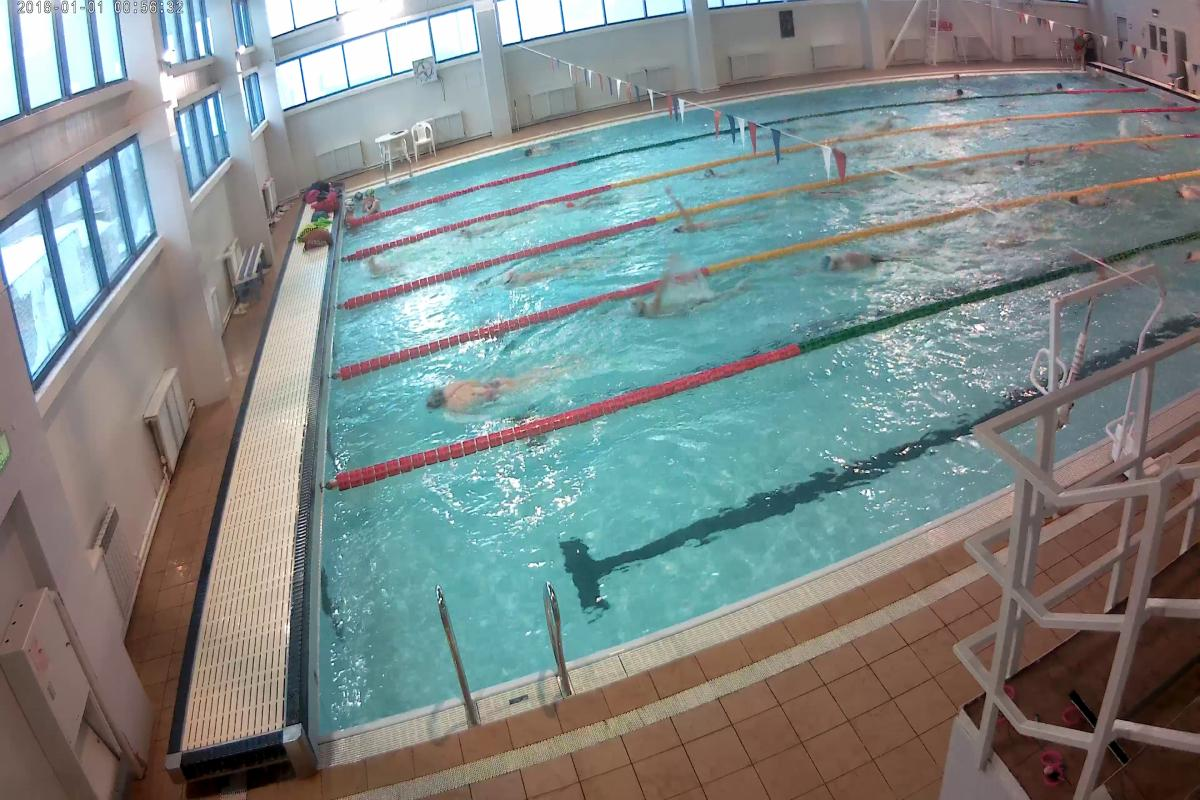swimmer: (424, 354, 584, 416), (618, 279, 744, 316), (495, 253, 602, 296), (810, 242, 912, 285), (666, 206, 758, 243), (1072, 190, 1128, 206), (1168, 177, 1197, 205)
